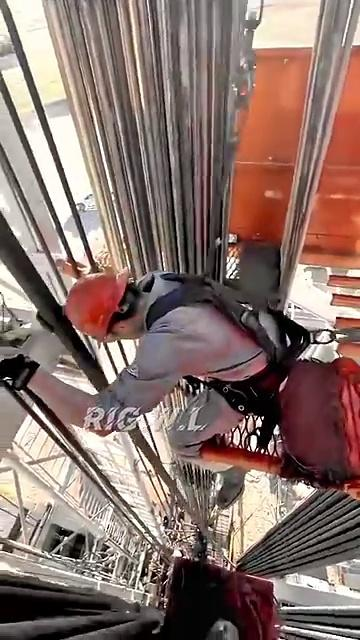gloves: (5, 363, 47, 410)
helmet: (62, 255, 148, 352)
shoes: (195, 447, 305, 532)
worker: (23, 212, 340, 502)
